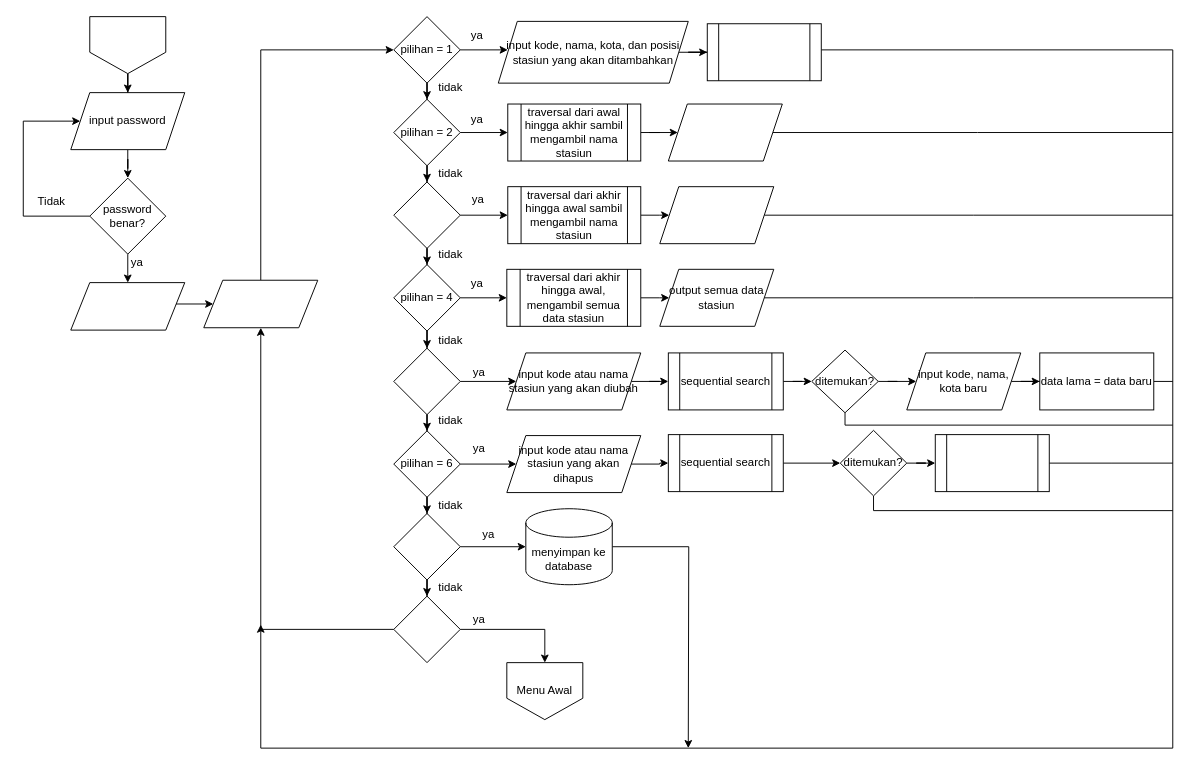
Some shapes in this 1197 by 772 pixel diagram are drawn without their labels. The shapes that lost their labels are listed below. From the top down, each one's centre as x and y in pixels, then its label:
(x=127, y=45): Mode admin dipilih
(x=763, y=52): proses menambahkan stasiun ke dalam struktur
(x=724, y=132): output nama stasiun dari awal hingga akhir
(x=426, y=214): pilihan = 3
(x=716, y=215): output nama stasiun dari akhir hingga awal
(x=127, y=306): menampilkan menu admin
(x=260, y=303): input pilihan menu
(x=426, y=381): pilihan = 5
(x=991, y=463): proses hapus stasiun
(x=426, y=546): pilihan = 7
(x=426, y=629): pilihan = 8
